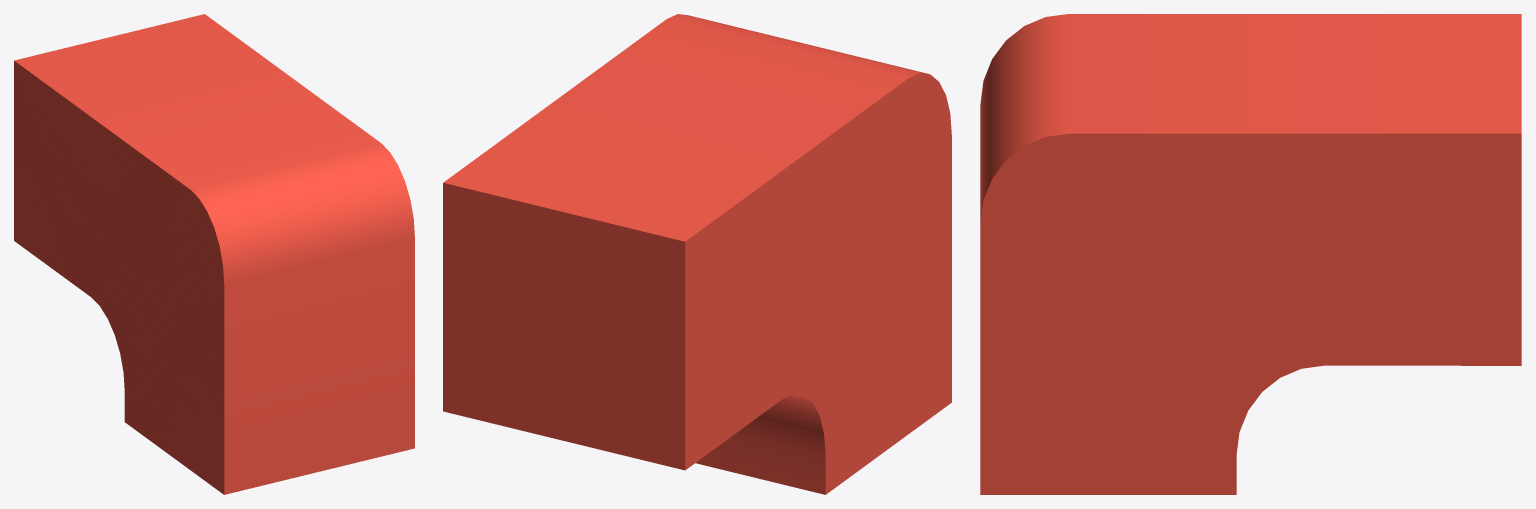
File: Link Block Red L Type.fbx
The picture shows the model from 3 angles, left to right: view 1: azimuth 30°, elevation 25°; view 2: azimuth 150°, elevation 25°; view 3: azimuth 270°, elevation 25°; orthographic projection. The views are drawn at different scales.
Parts seen in each view (by area): view 1: Link Block Red L Type; view 2: Link Block Red L Type; view 3: Link Block Red L Type.
Boxes of the visible parts, <box> form: Link Block Red L Type: <box>14,14,414,494</box>; Link Block Red L Type: <box>443,14,951,494</box>; Link Block Red L Type: <box>980,14,1521,494</box>.
Size of the model in its own units: 100 by 141 by 191.
